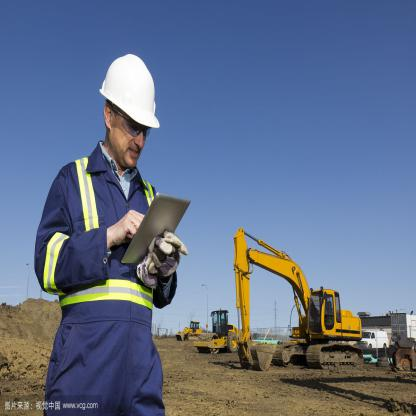helmet: (98, 54, 160, 126)
person: (37, 36, 177, 416)
vest: (42, 153, 162, 325)
